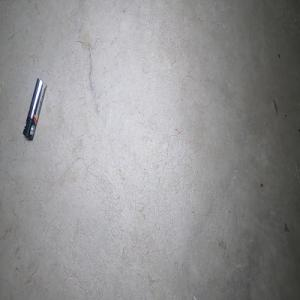Battery: (22, 77, 46, 140)
